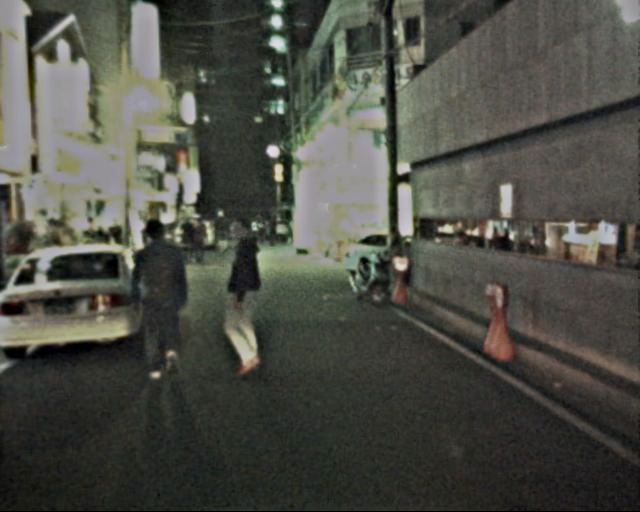person: (211, 220, 274, 374), (128, 220, 191, 373), (181, 215, 210, 264)
